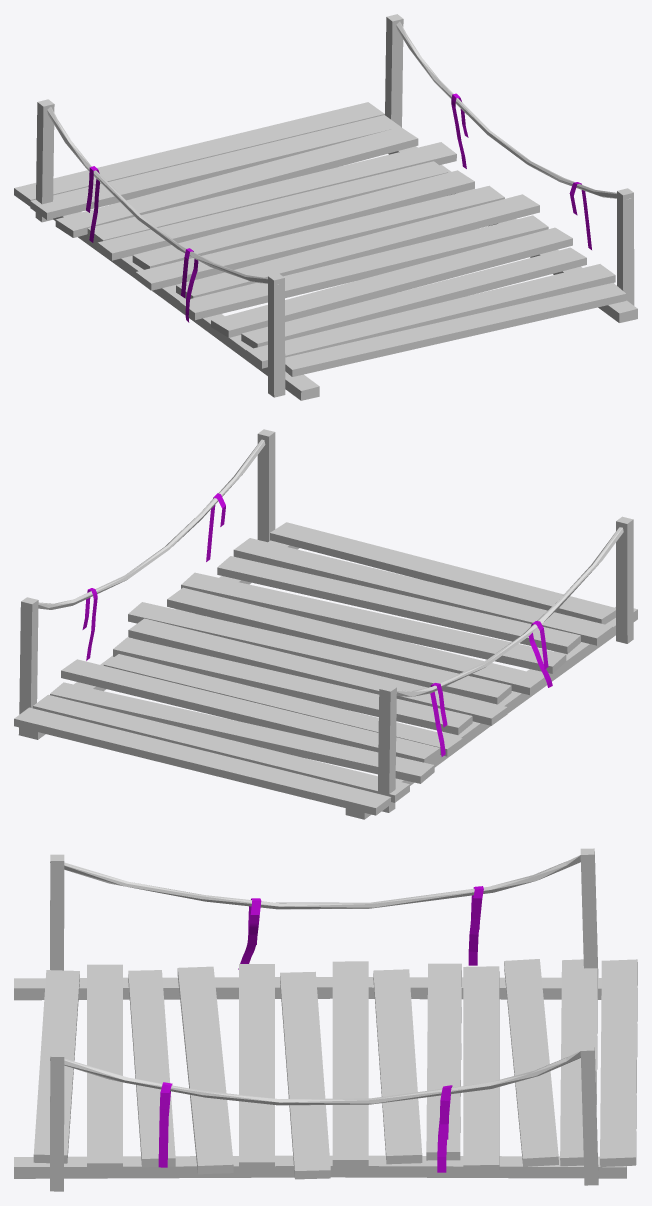
Rendered from Bridge.fbx.
3 views of the same model, one above another, from view 1: azimuth 30°, elevation 25°; view 2: azimuth 150°, elevation 25°; view 3: azimuth 270°, elevation 25° (orthographic). The views are drawn at different scales.
Visible parts, largest first — view 1: Bridge; view 2: Bridge; view 3: Bridge.
Part boxes in pixels (box(x1,y1,x2,y2)): Bridge: box(14, 14, 637, 400); Bridge: box(14, 429, 637, 819); Bridge: box(14, 848, 637, 1191).
Size of the model in its own units: 812 by 251 by 1009.
